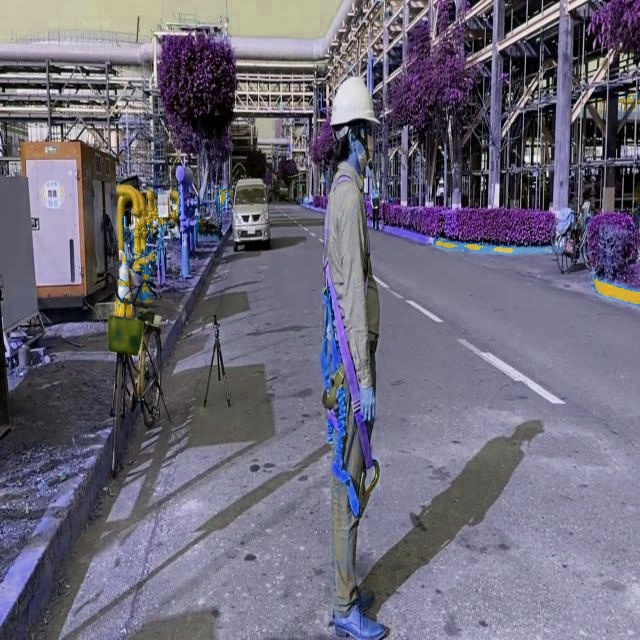safety belt: (305, 175, 407, 514)
